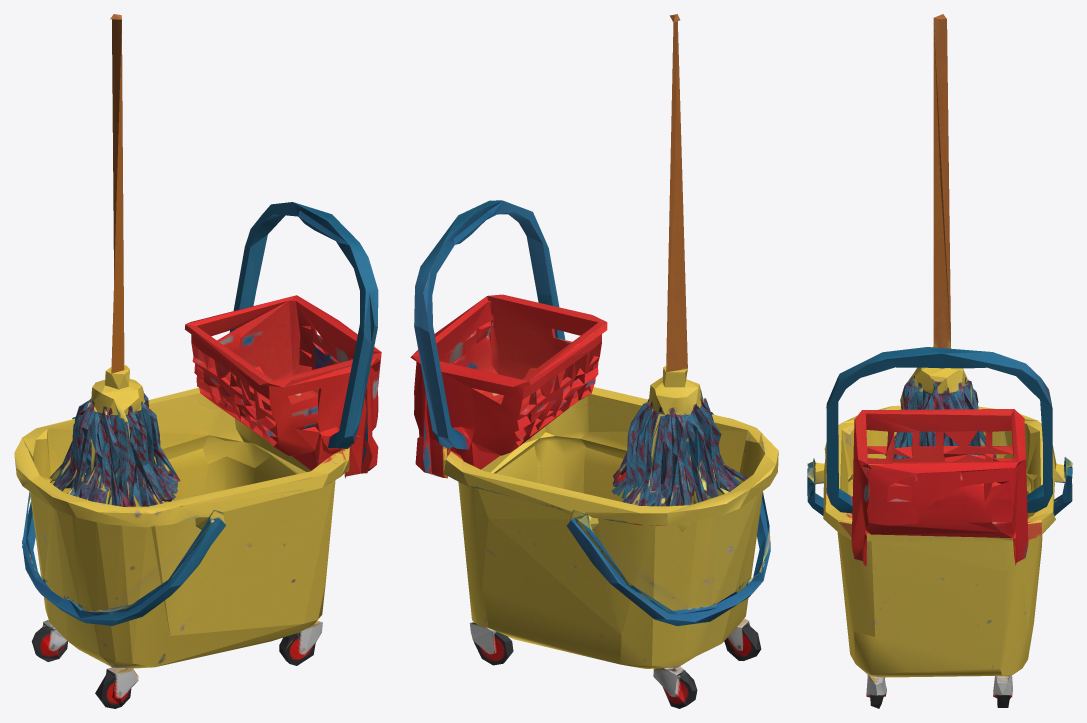
File: mop_bucket.glb
3 views of the same model, side by side, from view 1: azimuth 30°, elevation 25°; view 2: azimuth 150°, elevation 25°; view 3: azimuth 270°, elevation 25° (orthographic). The views are drawn at different scales.
Size of the model in its own units: 0.9496 by 1.9 by 0.7318.
1 material, 1 textured.
